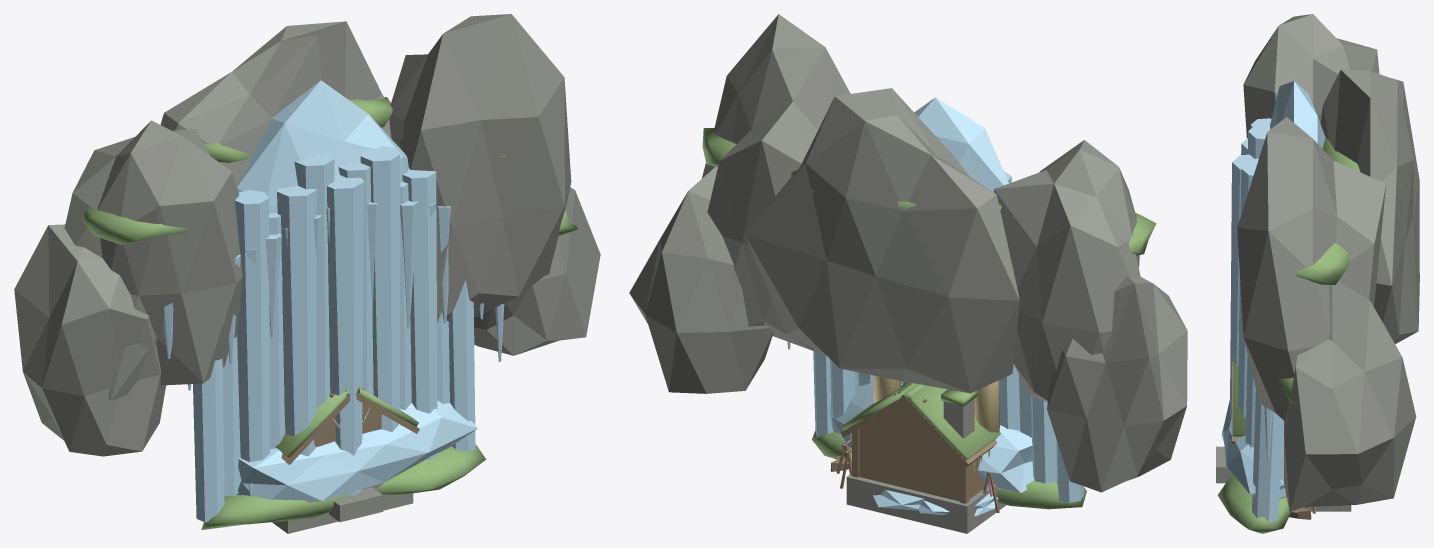
Rendered from FrozenF16Kit.fbx.
3 renders of one model, left to right at view 1: azimuth 30°, elevation 25°; view 2: azimuth 150°, elevation 25°; view 3: azimuth 270°, elevation 25°, orthographic. The views are drawn at different scales.
Visible parts, largest first — view 1: RimefallIcefall__STONE, RimefallIcefall__CRYSTAL, RimefallIcefall__MOSS, HuntersLodge__STONE, HuntersLodge__WOOD, HuntersLodge__MOSS; view 2: RimefallIcefall__STONE, RimefallIcefall__CRYSTAL, HuntersLodge__WOOD, HuntersLodge__STONE, RimefallIcefall__MOSS, HuntersLodge__MOSS, RimefallIcefall__GLOW, IceFloeSlab__CRYSTAL; view 3: RimefallIcefall__STONE, RimefallIcefall__CRYSTAL, RimefallIcefall__MOSS, HuntersLodge__STONE, HuntersLodge__MOSS.
Part boxes in pixels (<box>): RimefallIcefall__STONE: <box>14,14,600,456</box>; RimefallIcefall__CRYSTAL: <box>163,80,504,522</box>; RimefallIcefall__MOSS: <box>83,97,577,529</box>; HuntersLodge__STONE: <box>272,482,413,533</box>; HuntersLodge__WOOD: <box>281,387,419,464</box>; HuntersLodge__MOSS: <box>275,385,418,457</box>; RimefallIcefall__STONE: <box>629,14,1187,492</box>; RimefallIcefall__CRYSTAL: <box>787,97,1084,502</box>; HuntersLodge__WOOD: <box>836,392,997,503</box>; HuntersLodge__STONE: <box>846,398,1006,533</box>; RimefallIcefall__MOSS: <box>702,128,1156,509</box>; HuntersLodge__MOSS: <box>841,382,1000,460</box>; RimefallIcefall__GLOW: <box>873,375,1000,432</box>; IceFloeSlab__CRYSTAL: <box>873,490,998,516</box>; RimefallIcefall__STONE: <box>1237,14,1419,511</box>; RimefallIcefall__CRYSTAL: <box>1221,81,1325,521</box>; RimefallIcefall__MOSS: <box>1217,137,1400,533</box>; HuntersLodge__STONE: <box>1216,446,1351,511</box>; HuntersLodge__MOSS: <box>1232,356,1245,436</box>.
Size of the model in its own units: 97.47 by 75.6 by 32.12.
